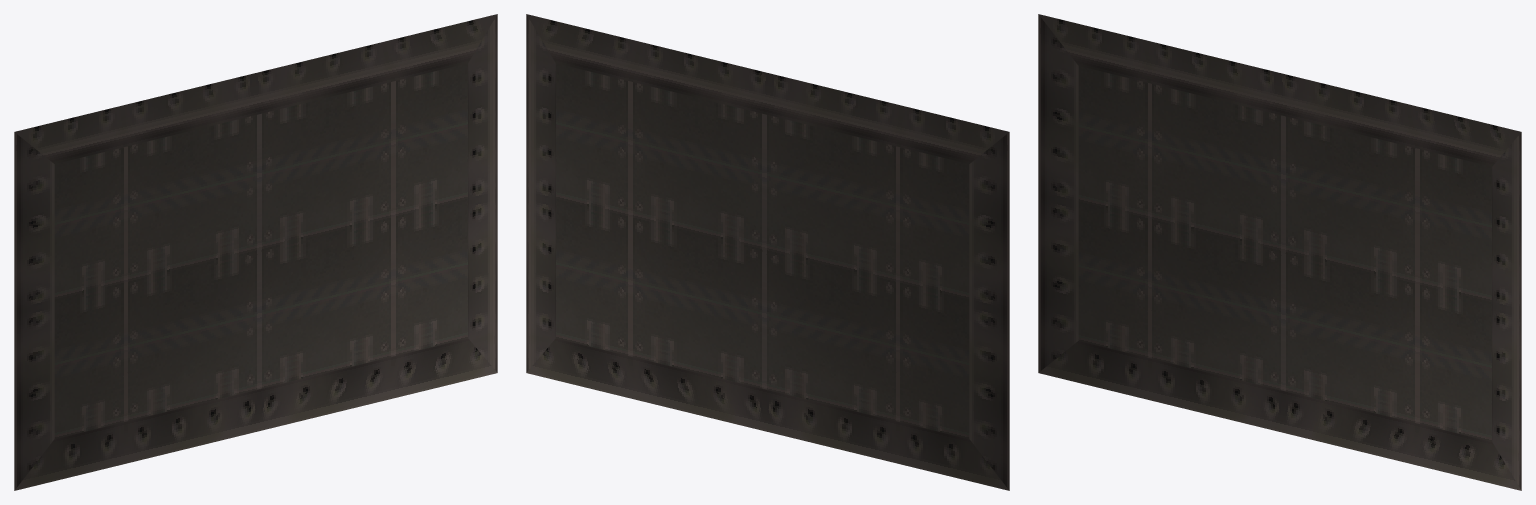
Rendered from level1_door.glb.
3 renders of one model, left to right at view 1: azimuth 30°, elevation 25°; view 2: azimuth 150°, elevation 25°; view 3: azimuth 330°, elevation 25°, orthographic.
Parts seen in each view (by area): view 1: 16 | Door | SlidingDoor; view 2: 16 | Door | SlidingDoor; view 3: 16 | Door | SlidingDoor.
Boxes of the visible parts, x1,y1,x2,y2 form: 16 | Door | SlidingDoor: [14, 14, 497, 490]; 16 | Door | SlidingDoor: [526, 14, 1009, 490]; 16 | Door | SlidingDoor: [1038, 14, 1521, 490].
Size of the model in its own units: 4.98 by 3.54 by 0.
2 materials, 2 textured.
